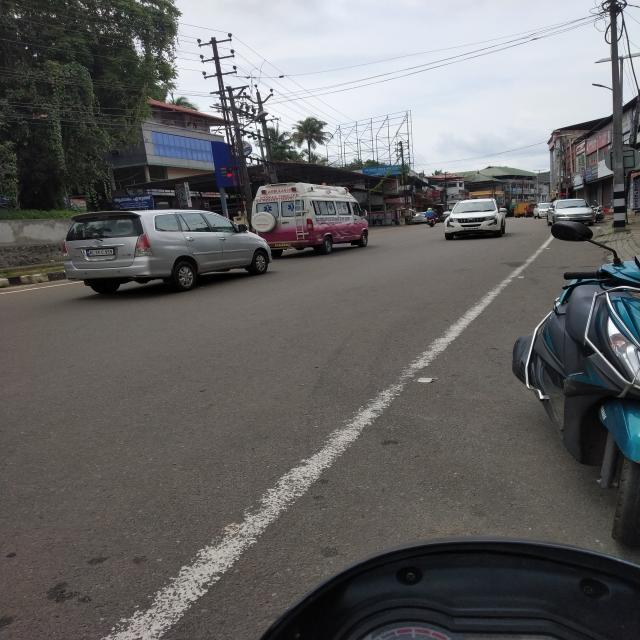Bike: (515, 254, 640, 541), (592, 205, 606, 222), (426, 217, 437, 228)
Bus: (250, 178, 370, 253)
cars: (67, 208, 271, 296), (444, 196, 509, 238), (546, 199, 595, 226), (533, 203, 552, 218), (411, 212, 427, 222), (439, 211, 451, 222)
